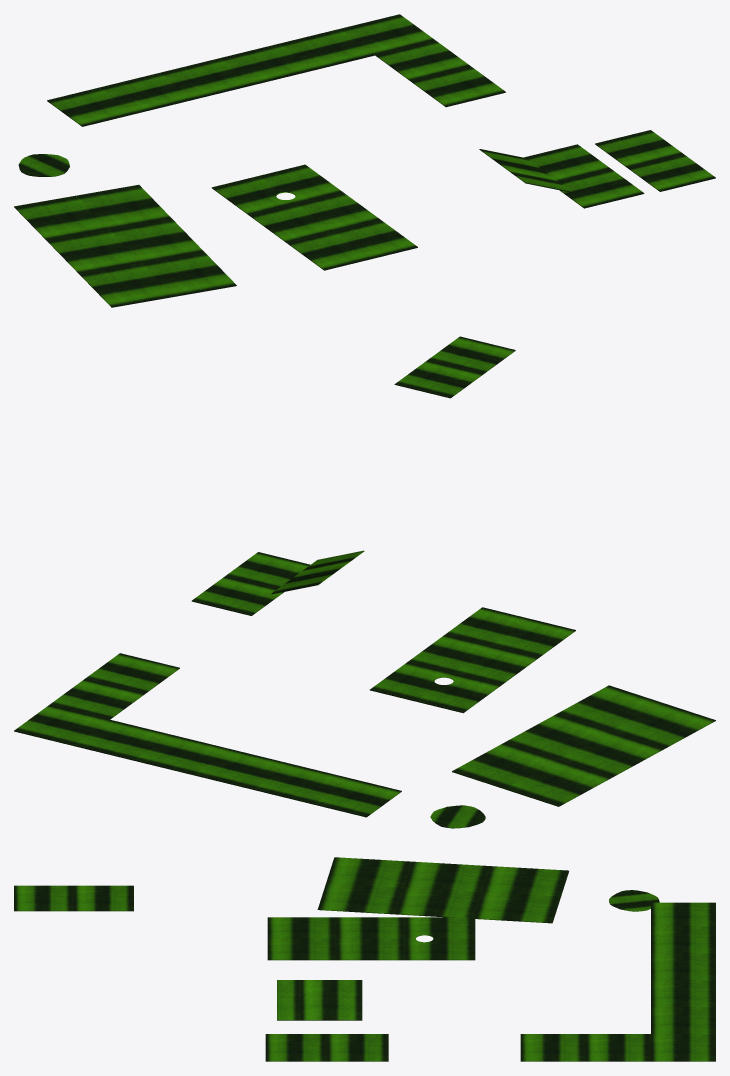
Rendered from PlayableFloor2.fbx.
The picture shows the model from 3 angles, top to bottom: view 1: azimuth 30°, elevation 25°; view 2: azimuth 150°, elevation 25°; view 3: azimuth 270°, elevation 25°; orthographic projection. The views are drawn at different scales.
Visible parts, largest first — view 1: Sol_Herbe.006; view 2: Sol_Herbe.006; view 3: Sol_Herbe.006.
Part boxes in pixels (x1,y1,x2,y2): Sol_Herbe.006: (14,14,715,307); Sol_Herbe.006: (14,336,715,828); Sol_Herbe.006: (14,857,715,1061).
Bounding box in the file's own units: 389 × 115 × 519.
